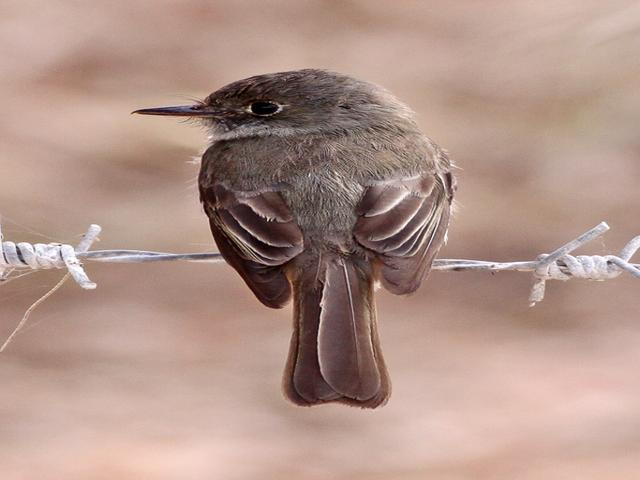bird: (106, 52, 481, 437)
